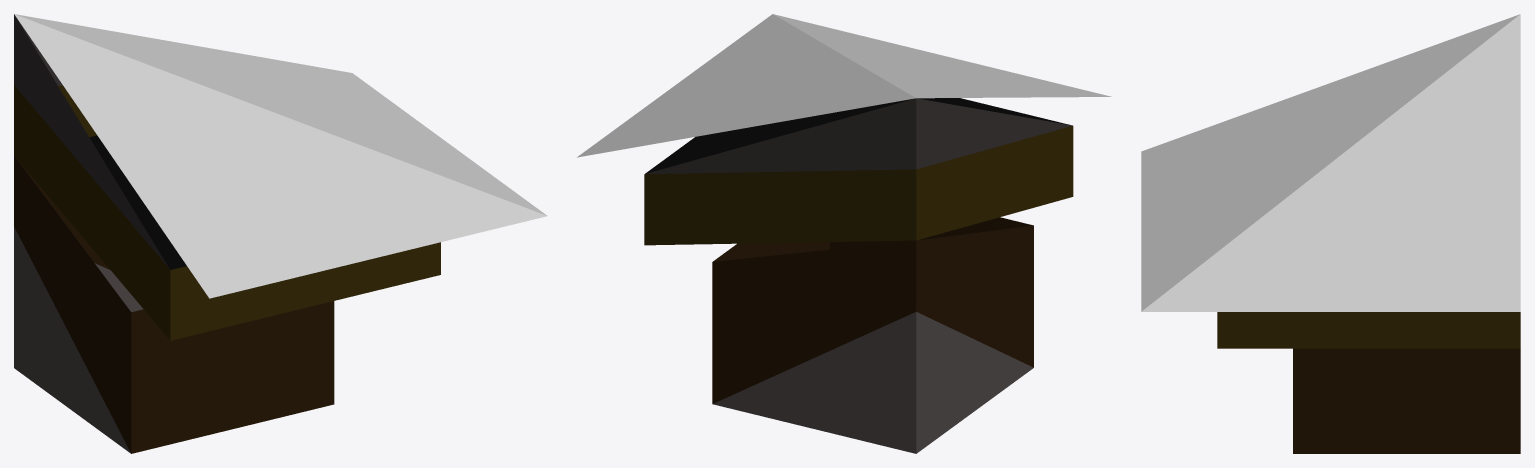
The model's file is model_loc_1790_v.obj.
The picture shows the model from 3 angles, left to right: view 1: azimuth 30°, elevation 25°; view 2: azimuth 150°, elevation 25°; view 3: azimuth 270°, elevation 25°; orthographic projection. The views are drawn at different scales.
Parts seen in each view (by area): view 1: 578; view 2: 578; view 3: 578.
Part boxes in pixels (x1,y1,x2,y2): 578: [14, 14, 547, 453]; 578: [577, 14, 1111, 453]; 578: [1141, 14, 1520, 453].
Bounding box in the file's own units: 40 × 40 × 40.
